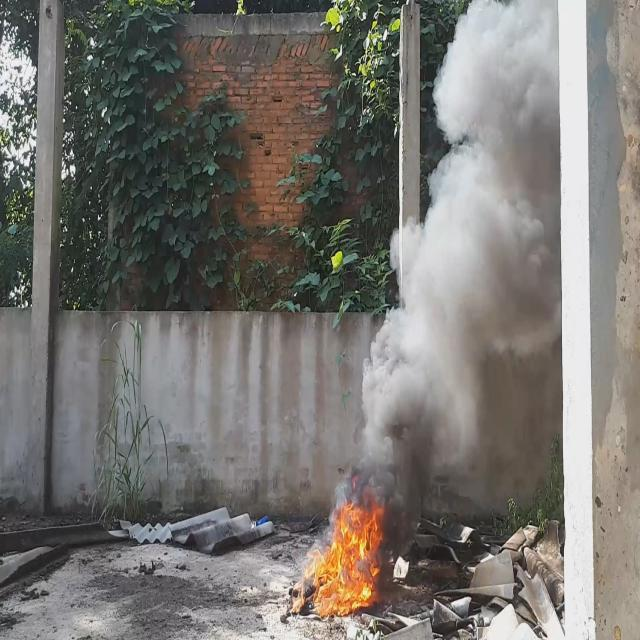Fire: (304, 502, 387, 616)
Smoke: (356, 0, 557, 506)
